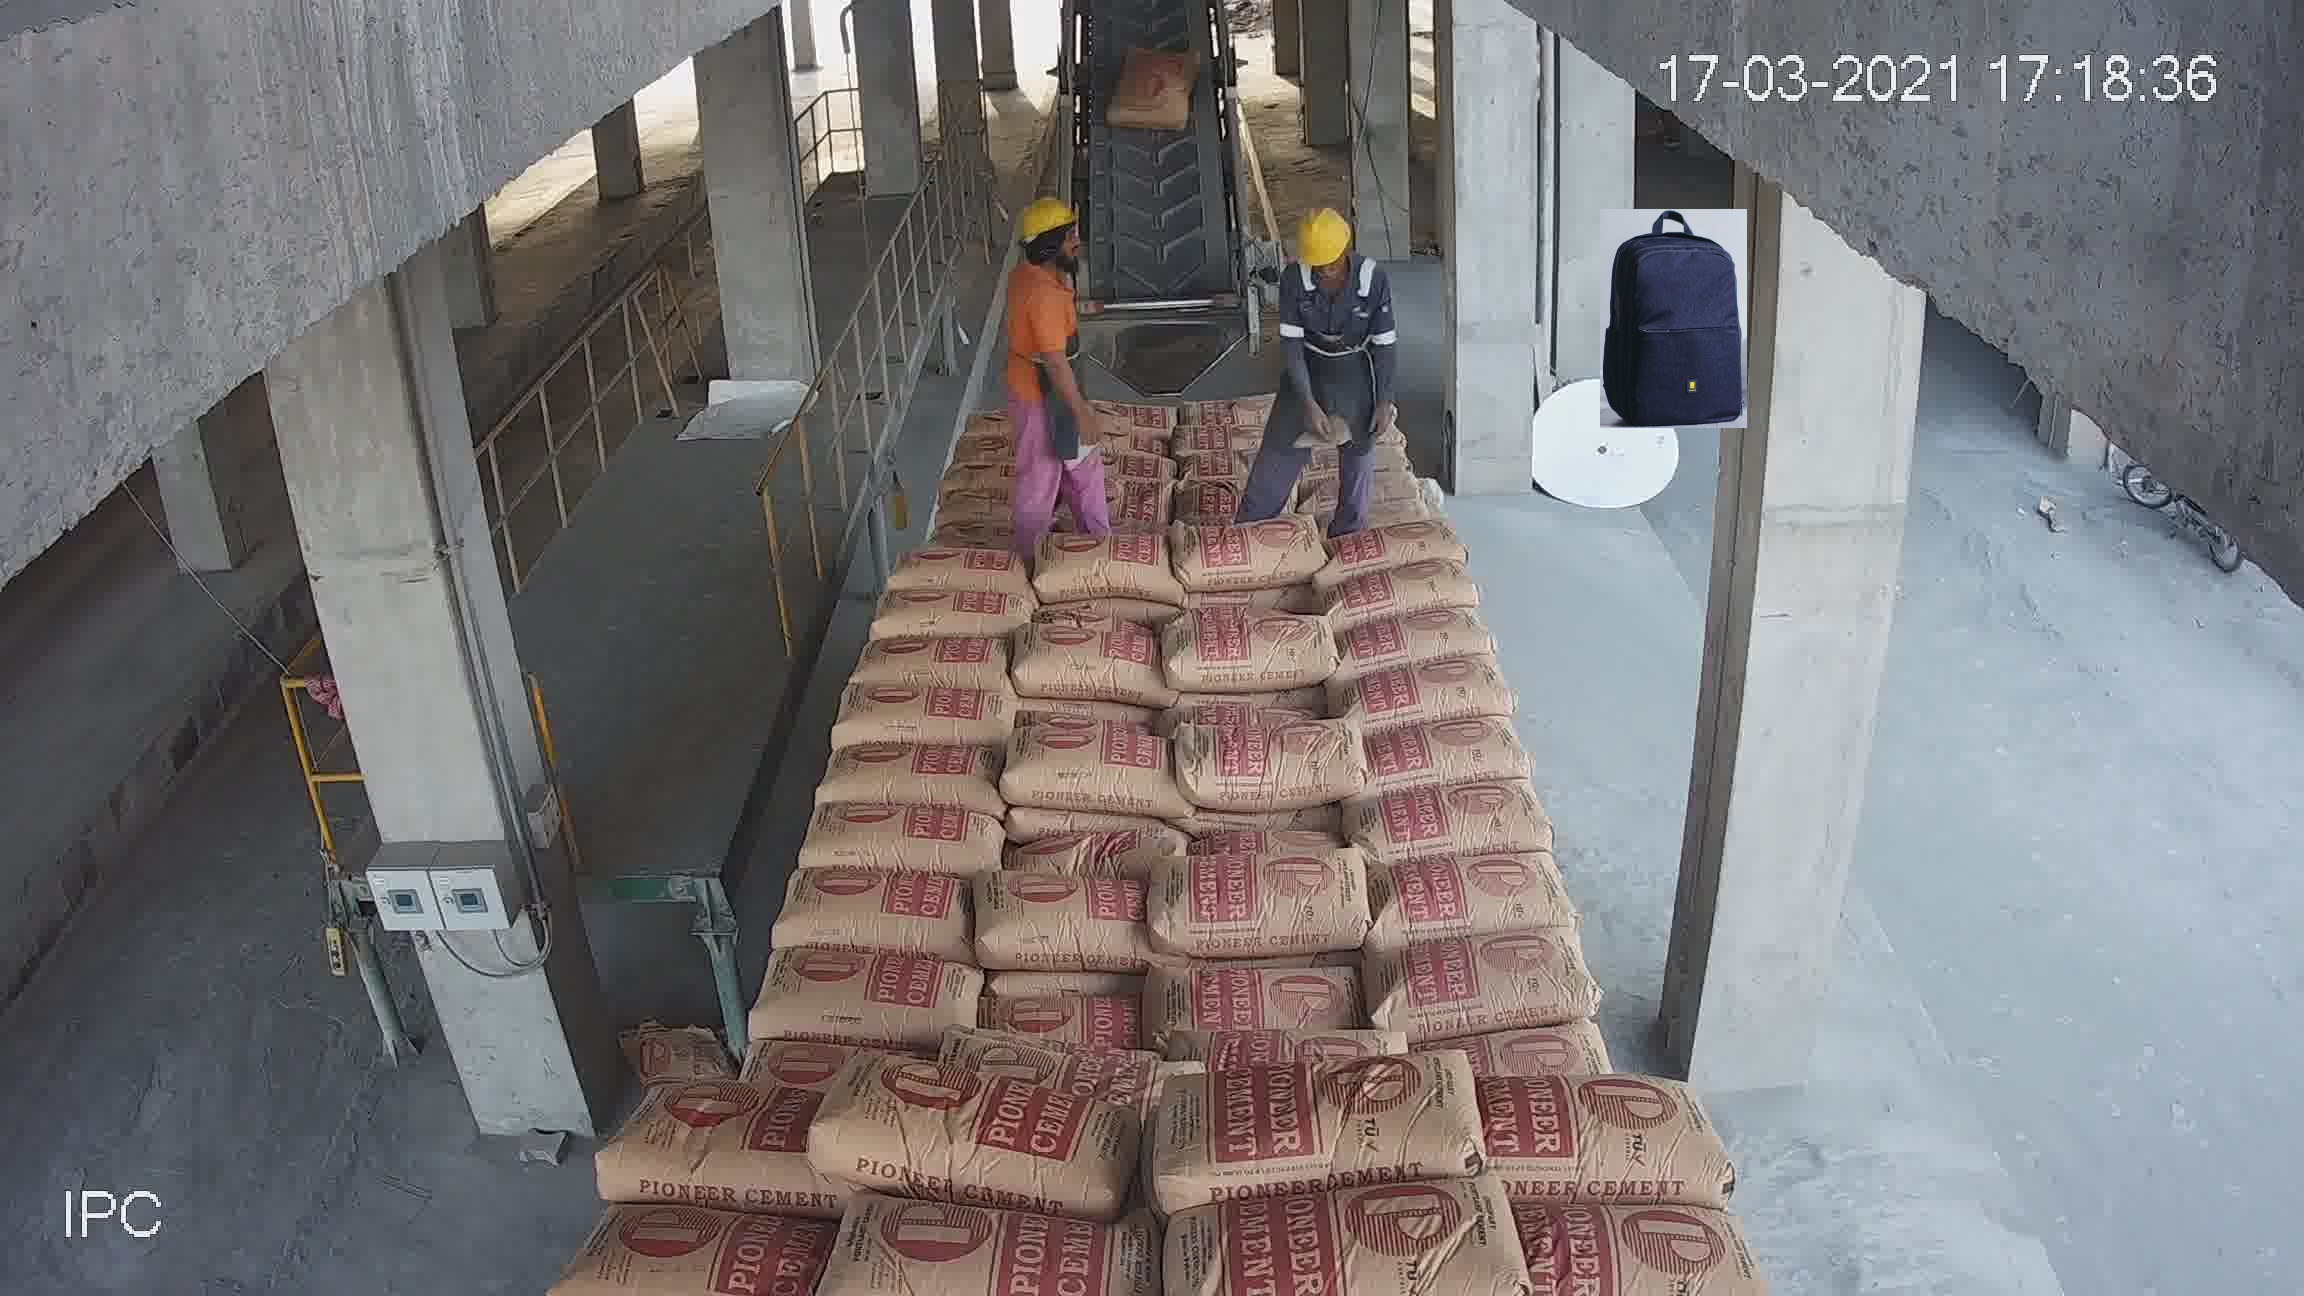bag: (1112, 51, 1201, 130)
bag_h: (1150, 1040, 1465, 1192), (801, 1071, 1135, 1203), (1478, 1055, 1726, 1214), (1139, 839, 1393, 949), (1369, 915, 1600, 1032), (1355, 847, 1589, 956), (600, 1079, 809, 1195), (729, 954, 991, 1040), (1143, 949, 1362, 1036), (1355, 766, 1556, 859), (1163, 1010, 1410, 1086), (1180, 714, 1370, 805), (1013, 718, 1188, 813), (970, 873, 1146, 968), (779, 867, 983, 946), (1370, 714, 1541, 804), (793, 799, 1014, 866), (1166, 608, 1340, 692), (809, 737, 1010, 805), (926, 1040, 1195, 1090), (1351, 657, 1532, 726), (1440, 1013, 1635, 1076), (1017, 810, 1196, 878), (828, 688, 1021, 748), (1033, 532, 1185, 608), (867, 582, 1040, 649), (1350, 600, 1502, 674), (1192, 513, 1321, 600), (1006, 628, 1161, 701), (1339, 552, 1486, 627), (981, 968, 1149, 1033), (1328, 511, 1472, 578), (848, 633, 1016, 688), (877, 543, 1038, 589), (1177, 388, 1275, 434), (1182, 430, 1271, 476), (1084, 402, 1184, 437), (1100, 487, 1176, 532), (930, 503, 1013, 543), (946, 437, 1011, 481), (929, 470, 1010, 503), (1097, 449, 1176, 476)
belt: (1070, 24, 1252, 364)
